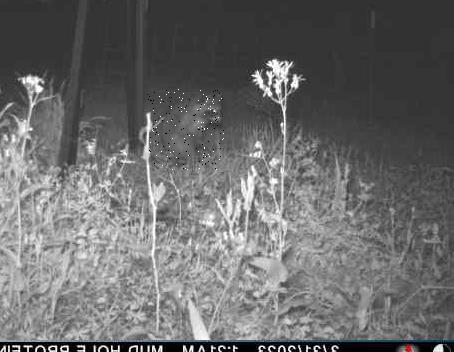Raccoon: (147, 89, 224, 170)
